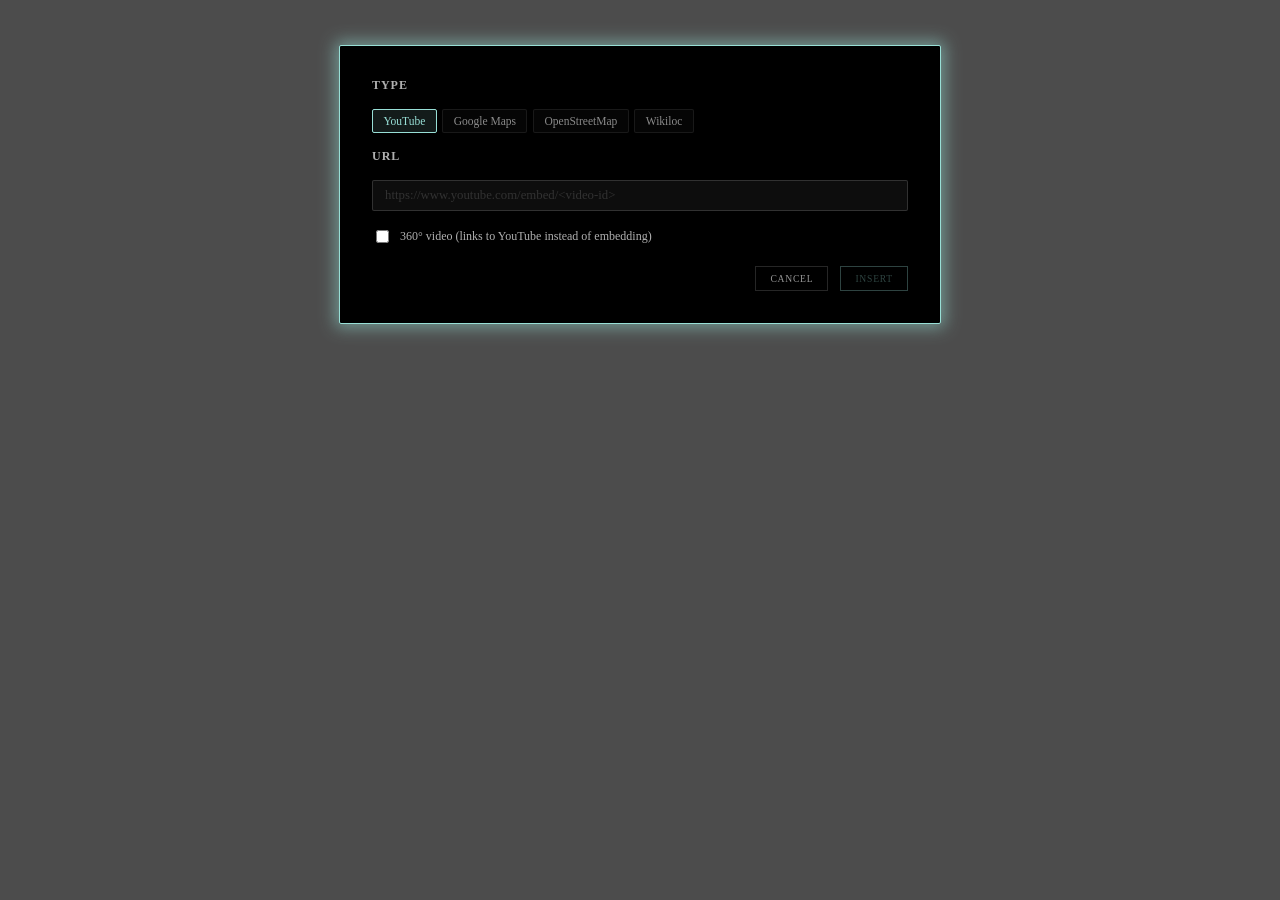
Scenario: EmbedInsertModal 360° › hides 360 checkbox when embed type is maps
This screenshot has width=1280, height=900.
Click the button with test id "embed-type-maps" at (485, 121), box [442,109,528,133]
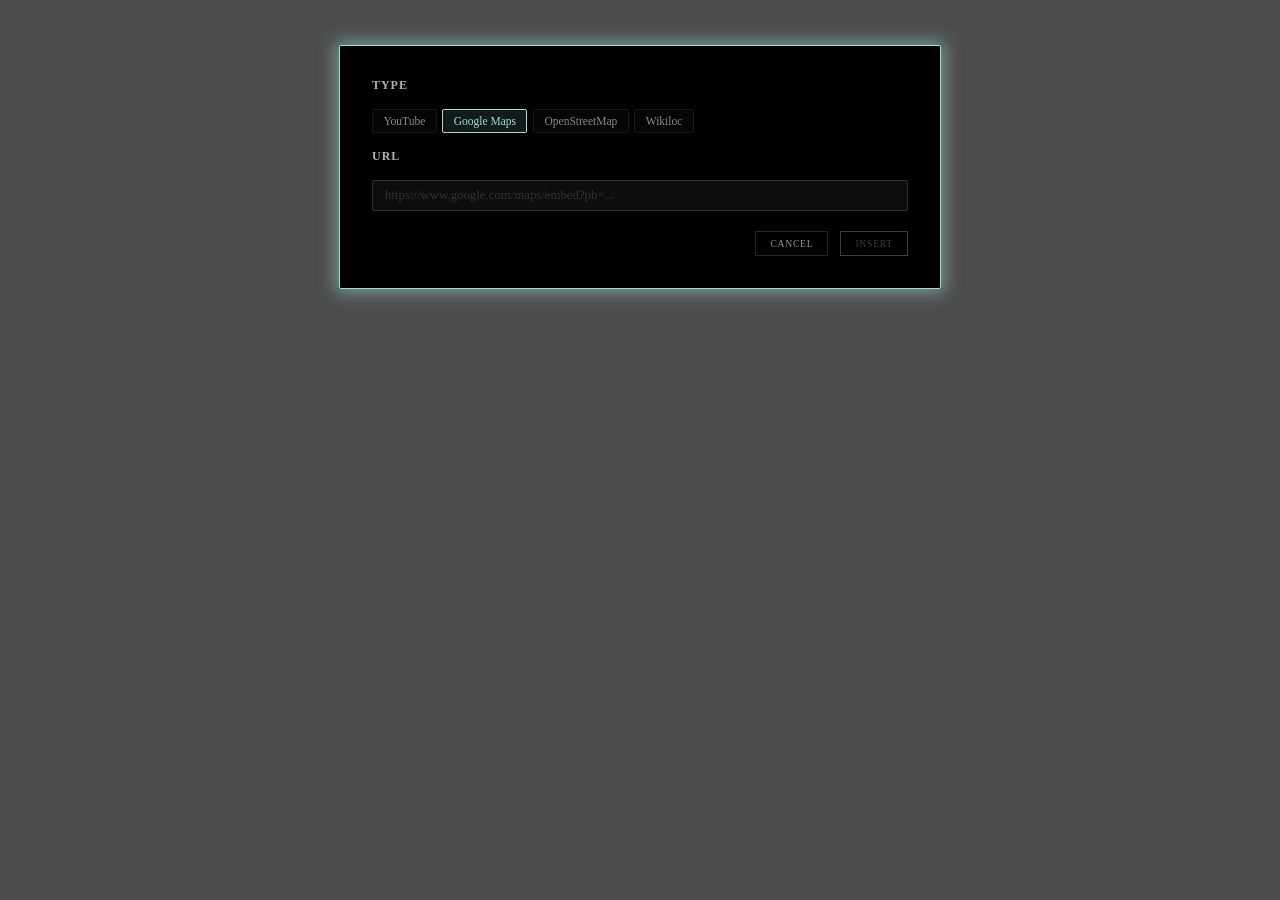
Check: the checkbox with test id "embed-is360-checkbox" is gone
